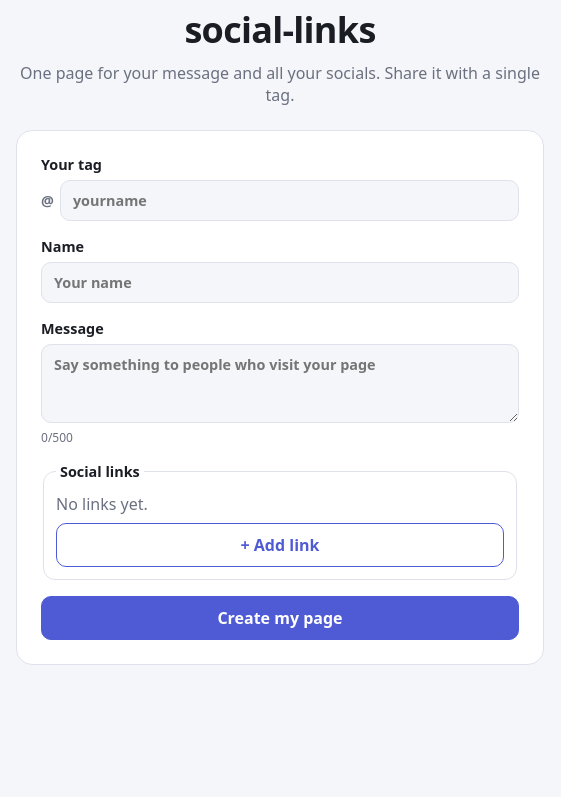
it: CreatePage › blocks submit with client-side validation errors
Type "ada" into the field with placeholder "yourname" at (289, 200), box [60,180,519,221]
Click the button "Create my page" at (280, 618), box [41,596,519,640]
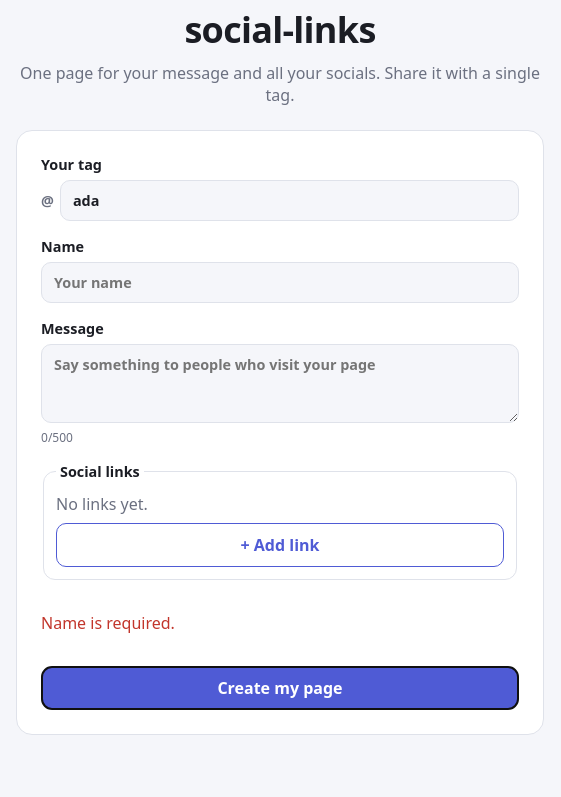
expect the message reads "Name is required.": met, box [41,612,175,634]
Type "Ada" into the field with placeholder "Your name" at (280, 282), box [41,262,519,303]
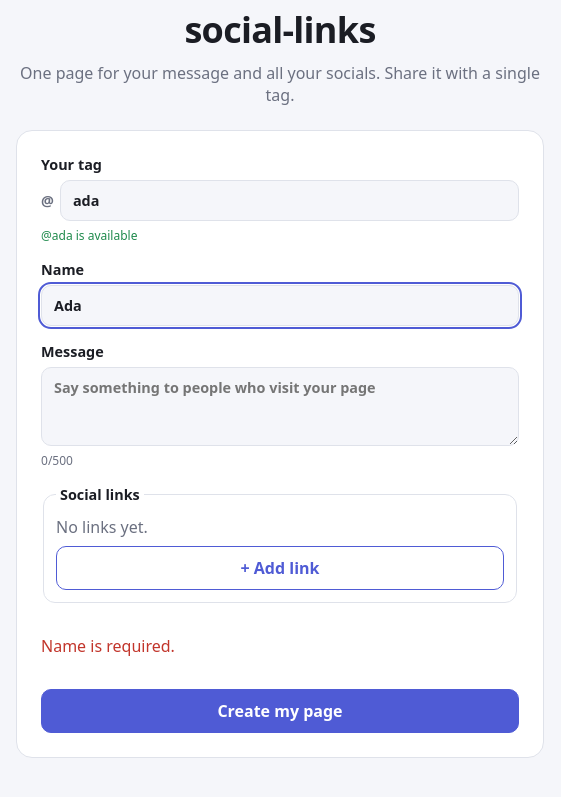
Click the button "+ Add link" at (280, 568), box [56,546,504,590]
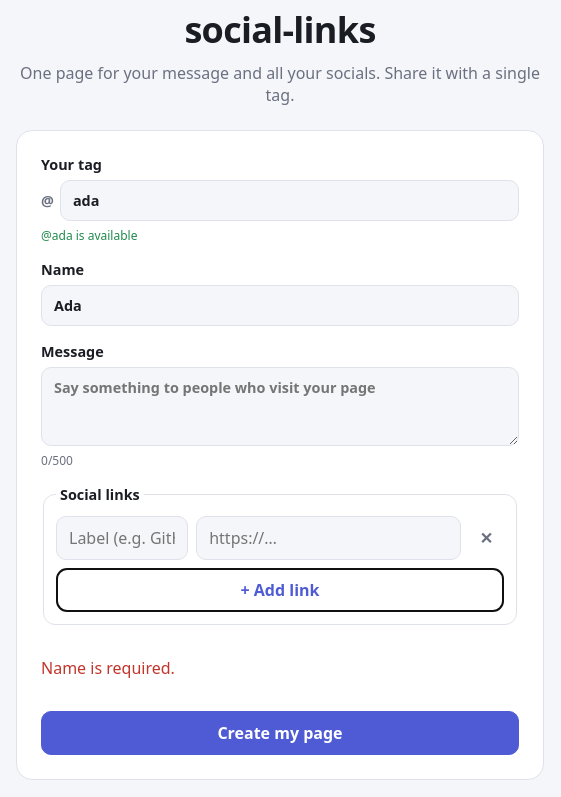
Type "Evil" into the field named "Link 1 label" at (122, 538), box [56,516,188,560]
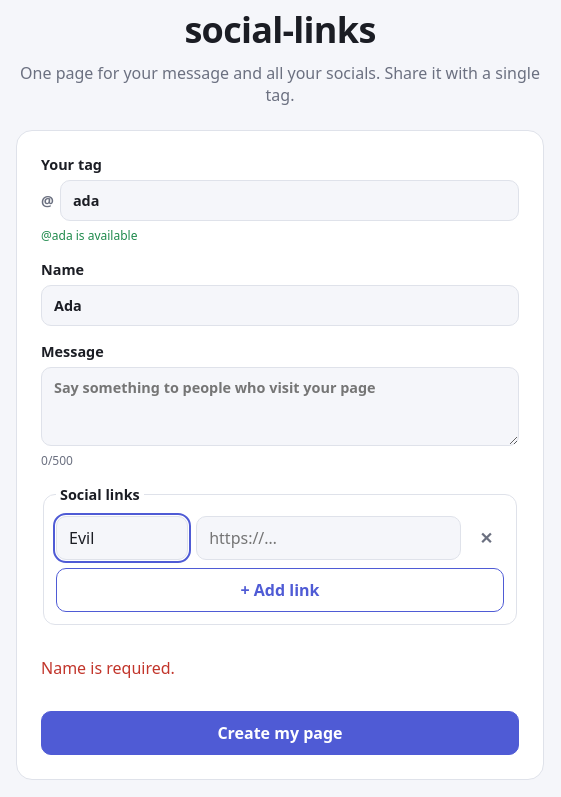
Type "javascript:alert(1)" into the field named "Link 1 URL" at (328, 538), box [196,516,461,560]
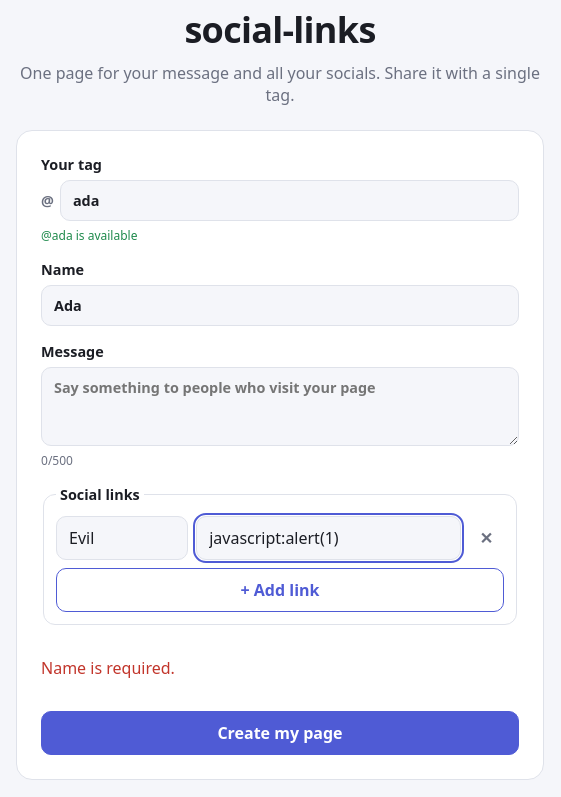
Click the button "Create my page" at (280, 733), box [41,711,519,755]
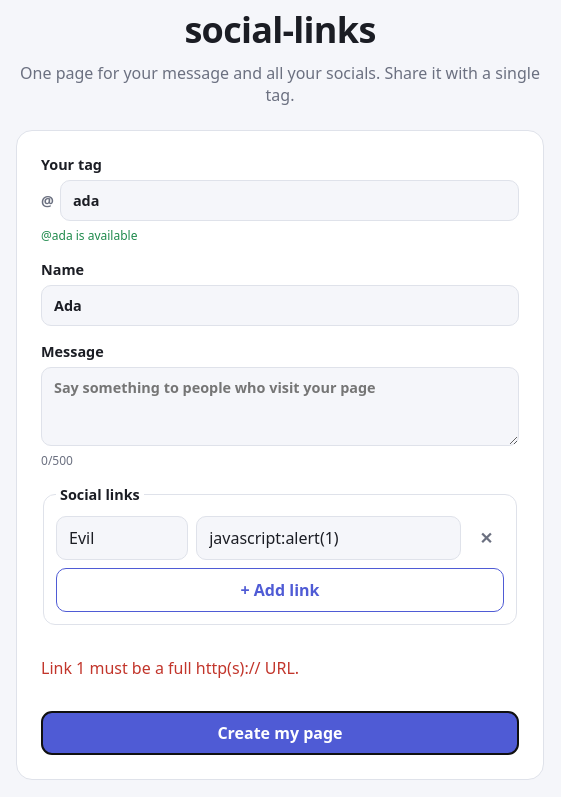
expect the message "Link 1 must be a full http(s):// URL." is shown: met, box [41,657,299,679]
